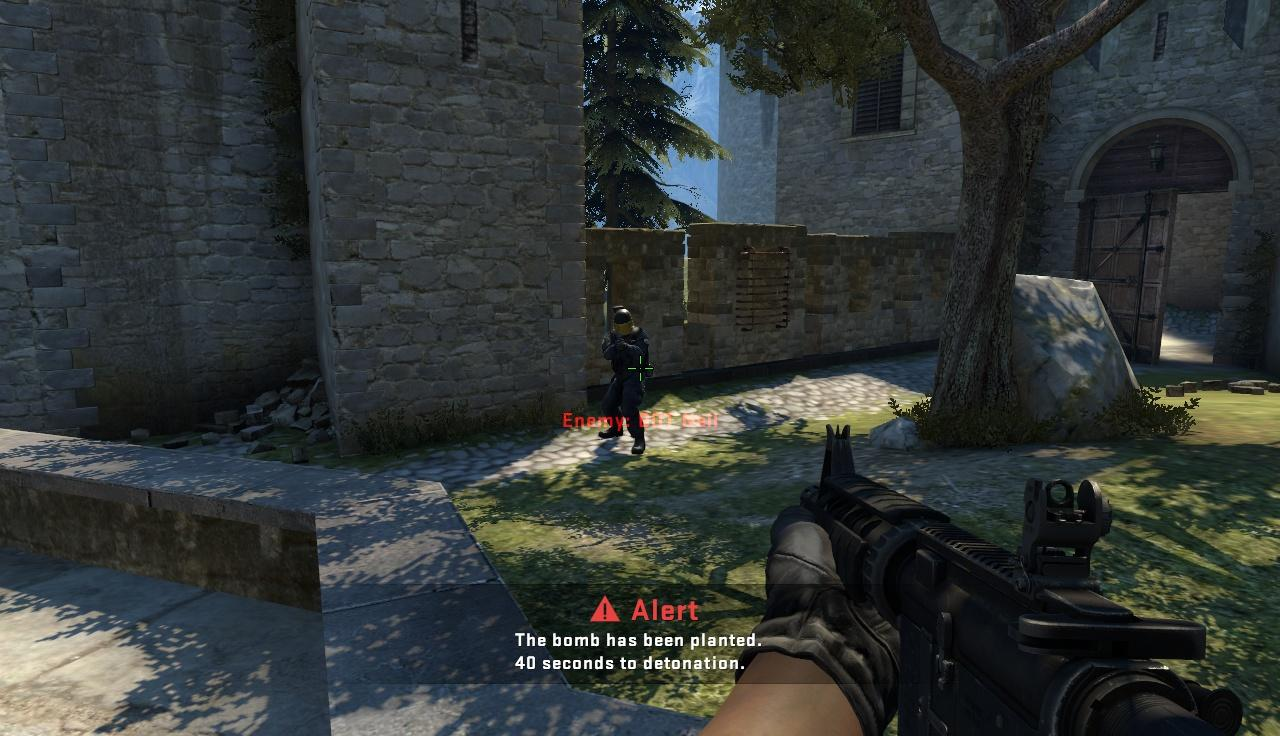ct: (601, 308, 646, 453)
cthead: (613, 309, 632, 334)
rifle: (773, 427, 1280, 736)
